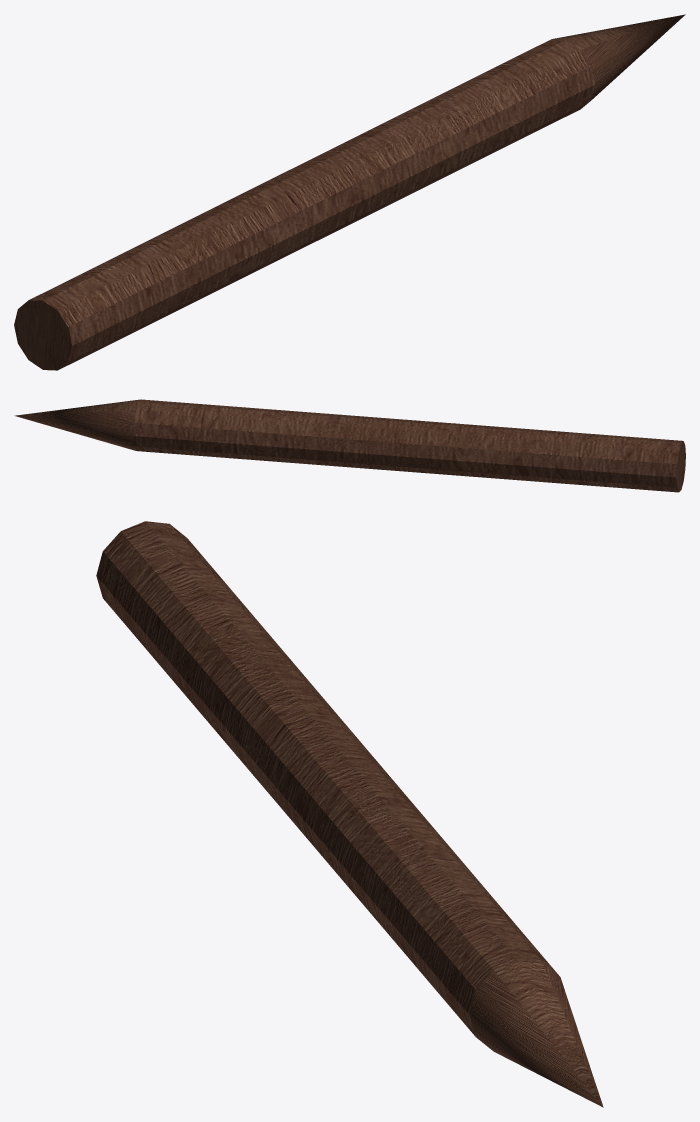
The model's file is Pencil.fbx.
3 renders of one model, top to bottom at view 1: azimuth 30°, elevation 25°; view 2: azimuth 150°, elevation 25°; view 3: azimuth 270°, elevation 25°, orthographic. The views are drawn at different scales.
Parts seen in each view (by area): view 1: Pencil; view 2: Pencil; view 3: Pencil.
Boxes of the visible parts, x1=… form: Pencil: x1=14, y1=14, x2=685, y2=370; Pencil: x1=14, y1=399, x2=685, y2=492; Pencil: x1=96, y1=521, x2=603, y2=1107.
Bounding box in the file's own units: 232 × 18.67 × 91.12.
1 material, 1 textured.
